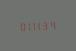four: (53, 19, 59, 29)
one: (24, 20, 30, 31), (39, 19, 45, 30), (32, 20, 38, 30)
three: (46, 19, 52, 30)
zero: (17, 21, 23, 31)
